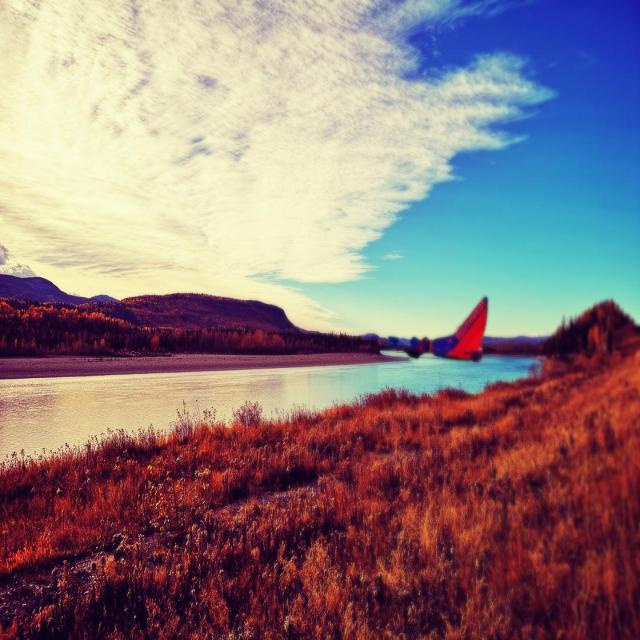airplane: (363, 296, 488, 362)
